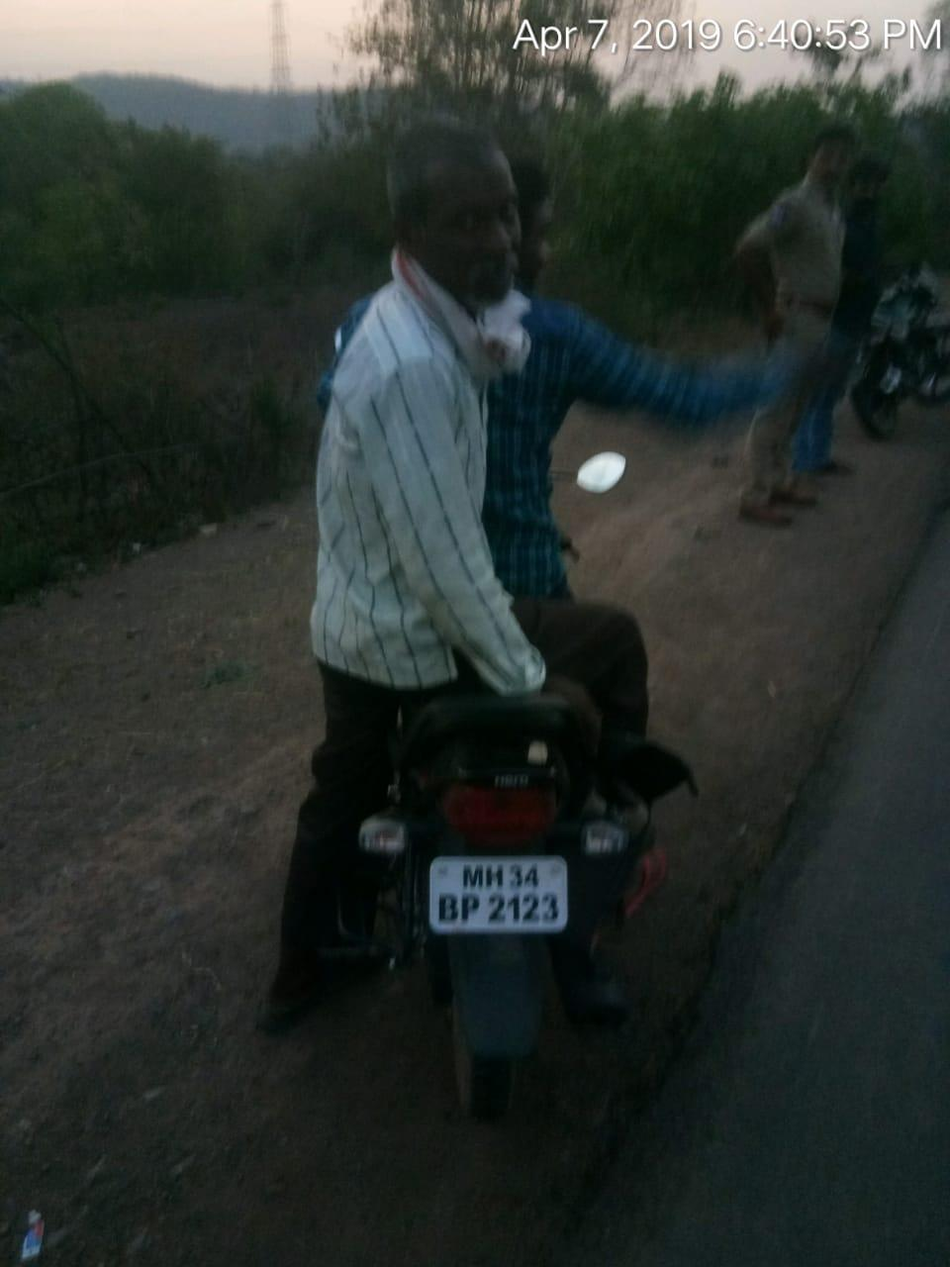plate: (415, 836, 590, 958)
